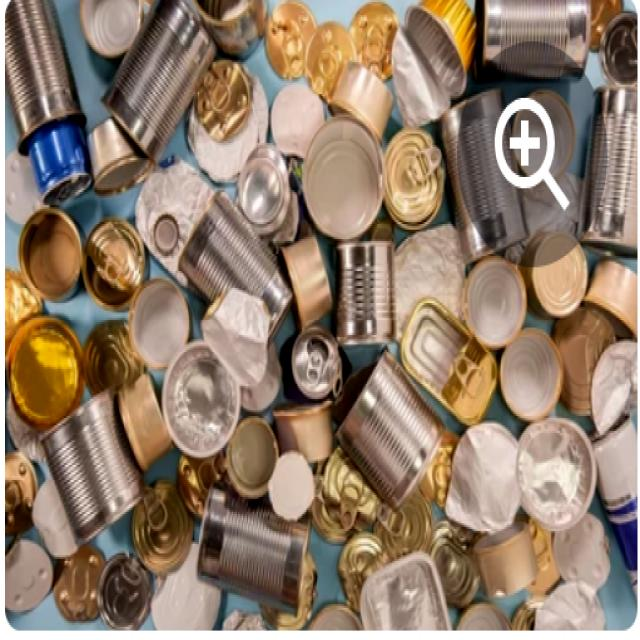Metal: (332, 344, 447, 519), (38, 383, 148, 552), (193, 482, 309, 618), (4, 0, 87, 151), (335, 236, 399, 348)
